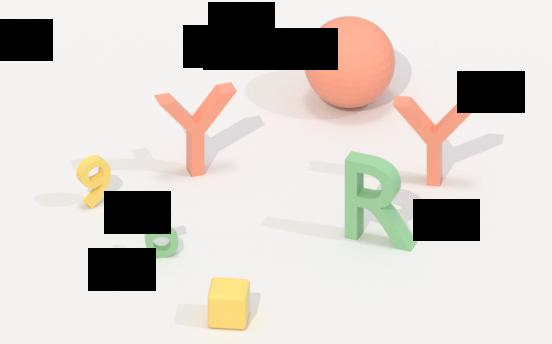6: (141, 204, 183, 261)
9: (73, 154, 114, 209)
R-hoa: (341, 152, 420, 254)
Y-hoa: (388, 93, 485, 191), (152, 77, 240, 181)
cau: (295, 16, 402, 113)
hop: (204, 274, 256, 333)
